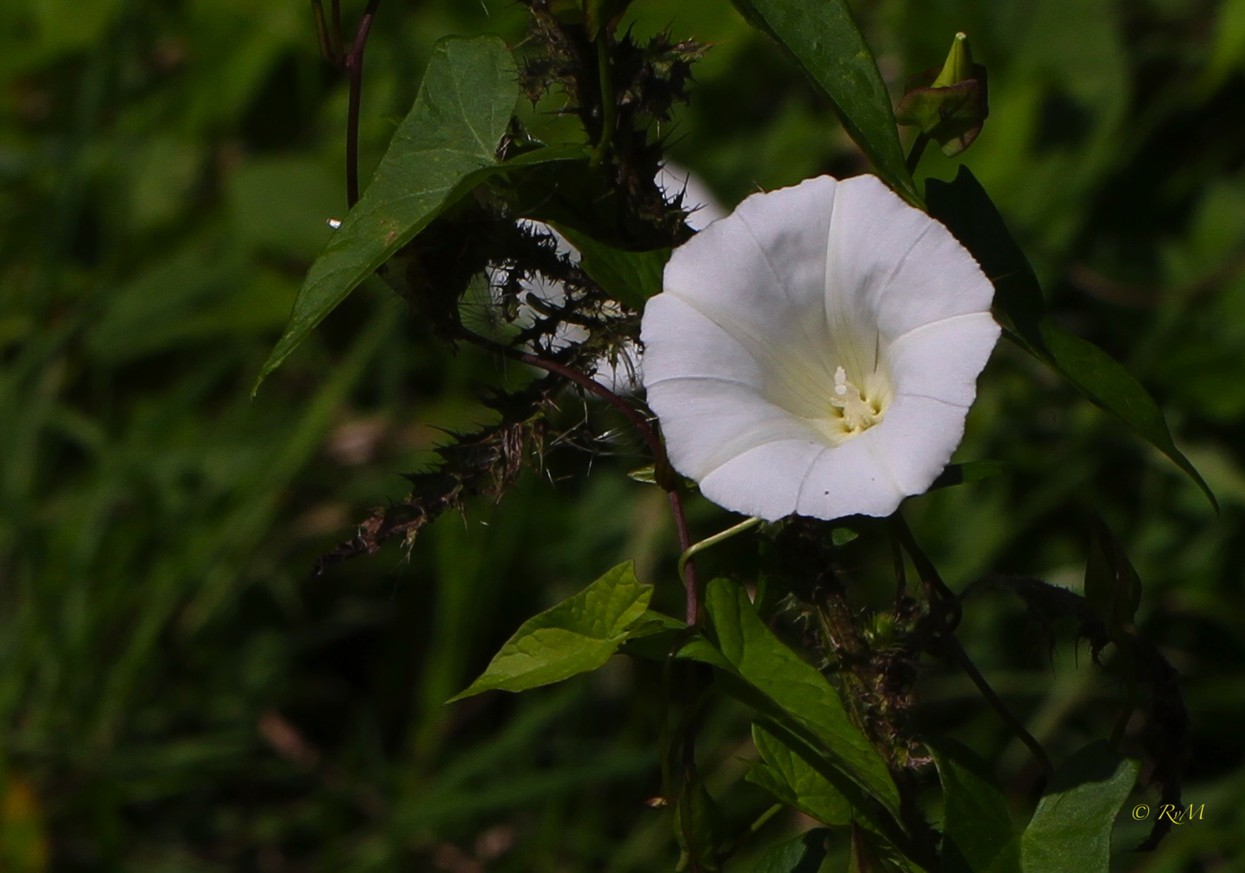haagwinde: (616, 124, 1029, 545), (248, 8, 596, 429), (454, 553, 926, 829)
